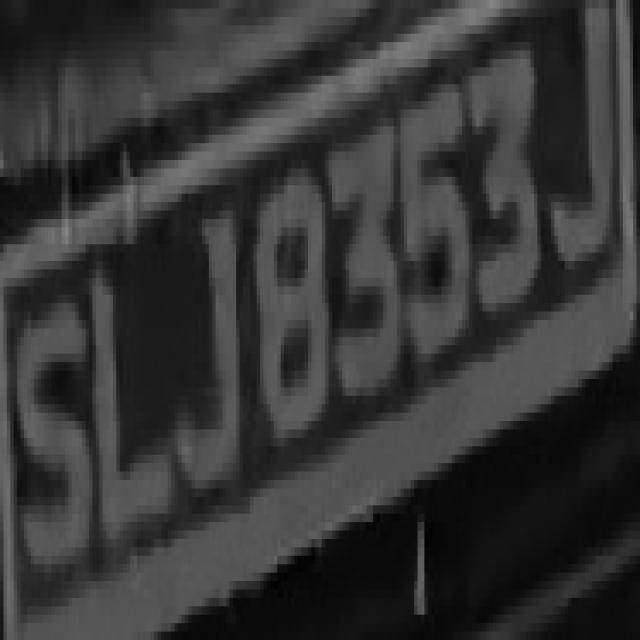3: (318, 93, 404, 446), (466, 34, 548, 345)
5: (397, 59, 469, 396)
8: (253, 160, 339, 463)
J: (175, 177, 256, 522), (544, 8, 626, 295)
L: (96, 210, 181, 556)
S: (4, 252, 100, 590)
